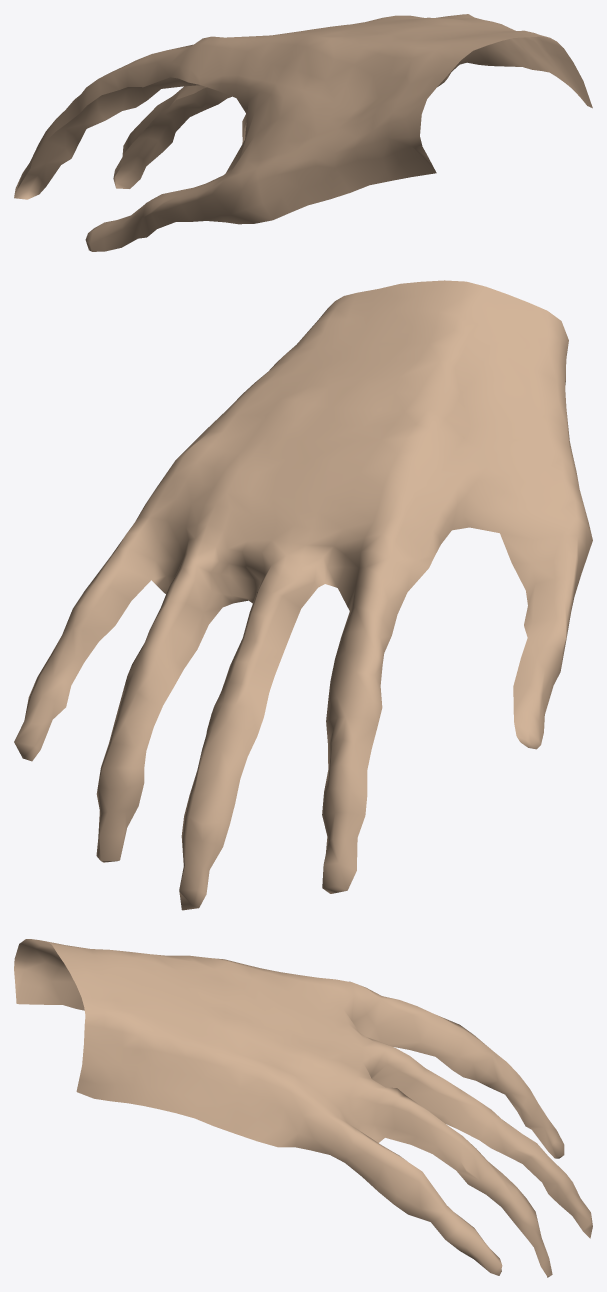
3 renders of one model, top to bottom at view 1: azimuth 30°, elevation 25°; view 2: azimuth 150°, elevation 25°; view 3: azimuth 270°, elevation 25°, orthographic. The views are drawn at different scales.
Parts seen in each view (by area): view 1: 右侧手背筋膜; view 2: 右侧手背筋膜; view 3: 右侧手背筋膜.
Boxes of the visible parts, x1,y1,x2,y2 form: 右侧手背筋膜: (14, 14, 592, 251); 右侧手背筋膜: (14, 280, 592, 910); 右侧手背筋膜: (14, 939, 592, 1277).
Size of the model in its own units: 0.1623 by 0.1368 by 0.2307.
